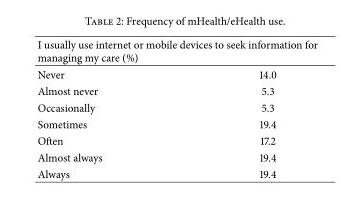table: (36, 36, 316, 180)
table column: (36, 36, 180, 180), (180, 36, 316, 180)
table column header: (36, 36, 316, 82)
table row: (36, 36, 316, 65), (36, 65, 316, 82), (36, 98, 316, 115), (36, 115, 316, 132), (36, 148, 316, 165), (36, 82, 316, 98), (36, 132, 316, 148), (36, 165, 316, 180)
table spanning cell: (36, 36, 316, 65)
